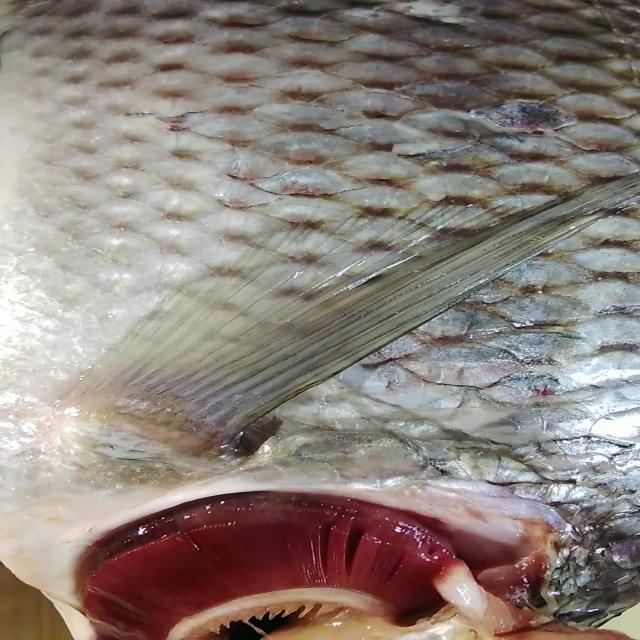Fresh: (65, 22, 640, 448), (134, 496, 503, 640)
